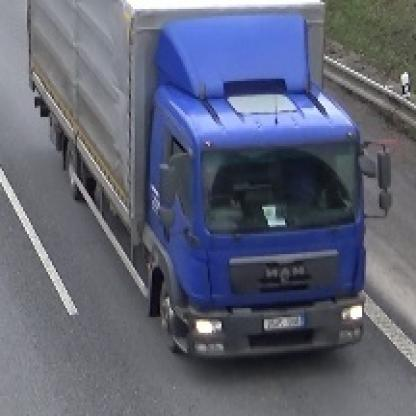truck: (26, 1, 392, 361)
